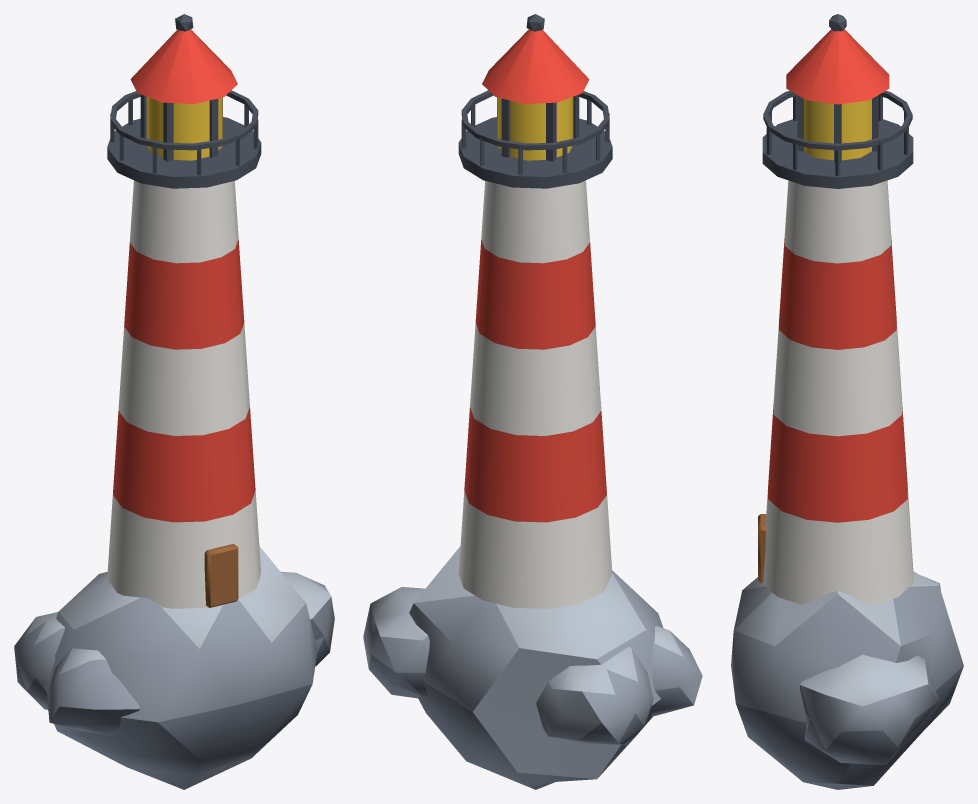
Rendered from lighthouse.fbx.
The picture shows the model from 3 angles, left to right: view 1: azimuth 30°, elevation 25°; view 2: azimuth 150°, elevation 25°; view 3: azimuth 270°, elevation 25°; orthographic projection.
Visible parts, largest first — view 1: lighthouse; view 2: lighthouse; view 3: lighthouse.
Part boxes in pixels (<box>): lighthouse: <box>14,14,334,789</box>; lighthouse: <box>363,14,702,789</box>; lighthouse: <box>731,14,963,789</box>.
Bounding box in the file's own units: 1.34 × 3.32 × 0.9045.
